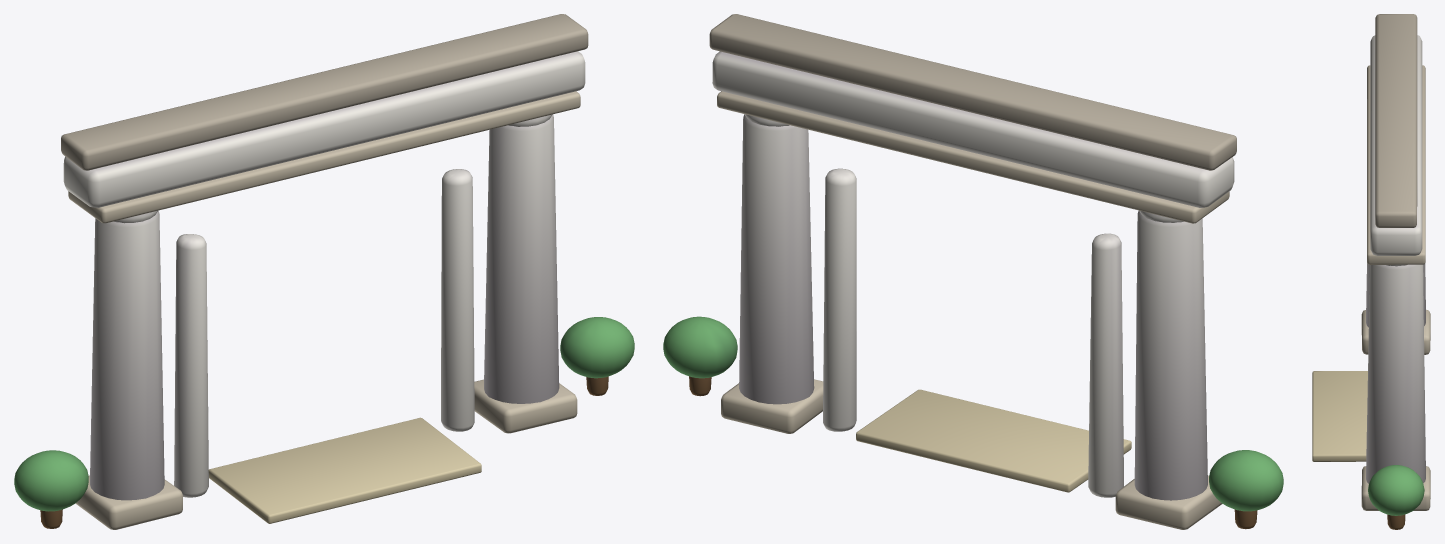
3 renders of one model, left to right at view 1: azimuth 30°, elevation 25°; view 2: azimuth 150°, elevation 25°; view 3: azimuth 270°, elevation 25°, orthographic. The views are drawn at different scales.
Parts seen in each view (by area): view 1: gate_e8eed53e; view 2: gate_e8eed53e; view 3: gate_e8eed53e.
Boxes of the visible parts, box(x1,y1,x2,y2) form: gate_e8eed53e: box(14, 14, 634, 529); gate_e8eed53e: box(663, 14, 1283, 529); gate_e8eed53e: box(1312, 14, 1430, 529).
Size of the model in its own units: 6.87 by 4.08 by 1.42.
